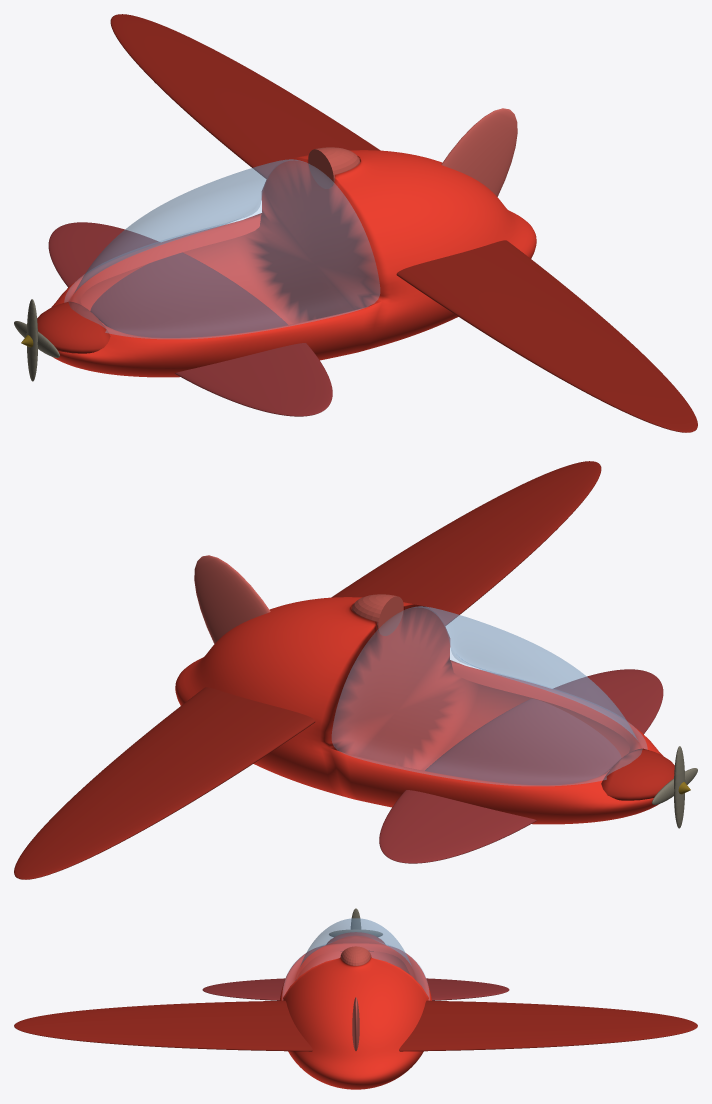
File: Plane1Concept.fbx
The picture shows the model from 3 angles, top to bottom: view 1: azimuth 30°, elevation 25°; view 2: azimuth 150°, elevation 25°; view 3: azimuth 270°, elevation 25°; orthographic projection. The views are drawn at different scales.
Parts seen in each view (by area): view 1: Cockpit, Canopy, WingBack, WingFront, RearStabilizer, Nose, Inlet, Propeler1; view 2: Cockpit, Canopy, WingBack, WingFront, RearStabilizer, Nose, Inlet, Propeler1; view 3: WingBack, Cockpit, Canopy, WingFront, Nose, Inlet, RearStabilizer.
Boxes of the visible parts, x1,y1,x2,y2 form: Cockpit: (52, 150, 536, 377); Canopy: (64, 159, 379, 338); WingBack: (110, 14, 697, 432); WingFront: (48, 222, 332, 416); RearStabilizer: (441, 108, 517, 196); Nose: (37, 301, 110, 353); Inlet: (308, 147, 360, 188); Propeler1: (26, 299, 37, 381); Cockpit: (175, 597, 662, 824); Canopy: (332, 606, 647, 785); WingBack: (14, 461, 601, 879); WingFront: (379, 669, 663, 863); RearStabilizer: (194, 555, 270, 643); Nose: (601, 748, 674, 800); Inlet: (351, 594, 403, 635); Propeler1: (674, 746, 685, 828); WingBack: (14, 1000, 697, 1051); Cockpit: (279, 943, 431, 1089); Canopy: (282, 918, 429, 1000); WingFront: (202, 978, 509, 1000); Nose: (326, 932, 385, 951); Inlet: (341, 946, 370, 965); RearStabilizer: (352, 997, 359, 1050).
Size of the model in its own units: 548 by 188 by 1071.
